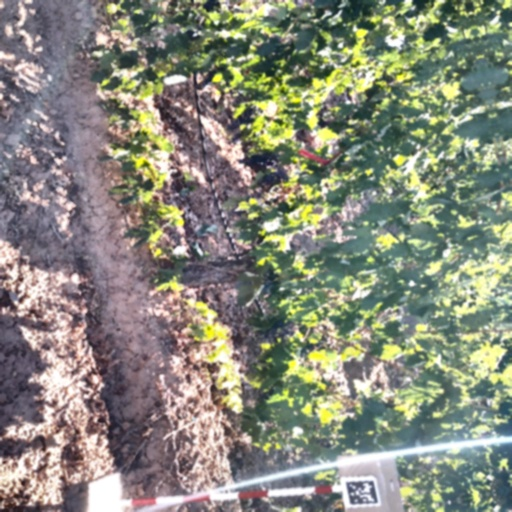QR: (342, 476, 378, 510)
